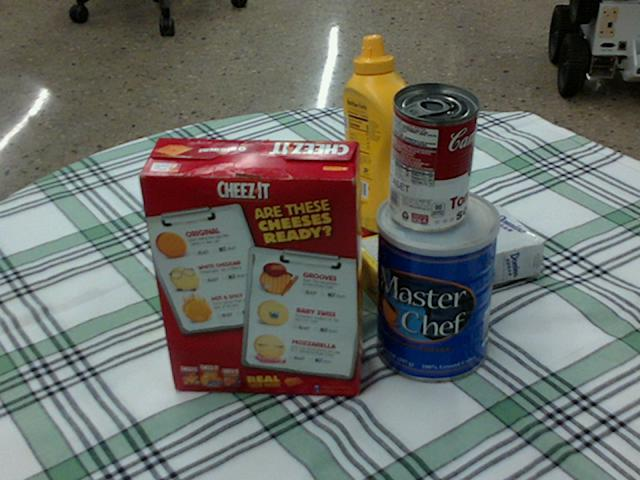cracker_box: (133, 139, 362, 393)
gelatin_box: (322, 180, 424, 252)
master_chef_can: (375, 185, 500, 381)
mug: (253, 210, 352, 327)
mustard_bottle: (342, 36, 417, 234)
potted_meat_can: (155, 234, 265, 335)
sugar_box: (348, 202, 543, 314)
tomato_soup_can: (388, 82, 476, 231)
tuna_fish_can: (165, 203, 257, 280)
